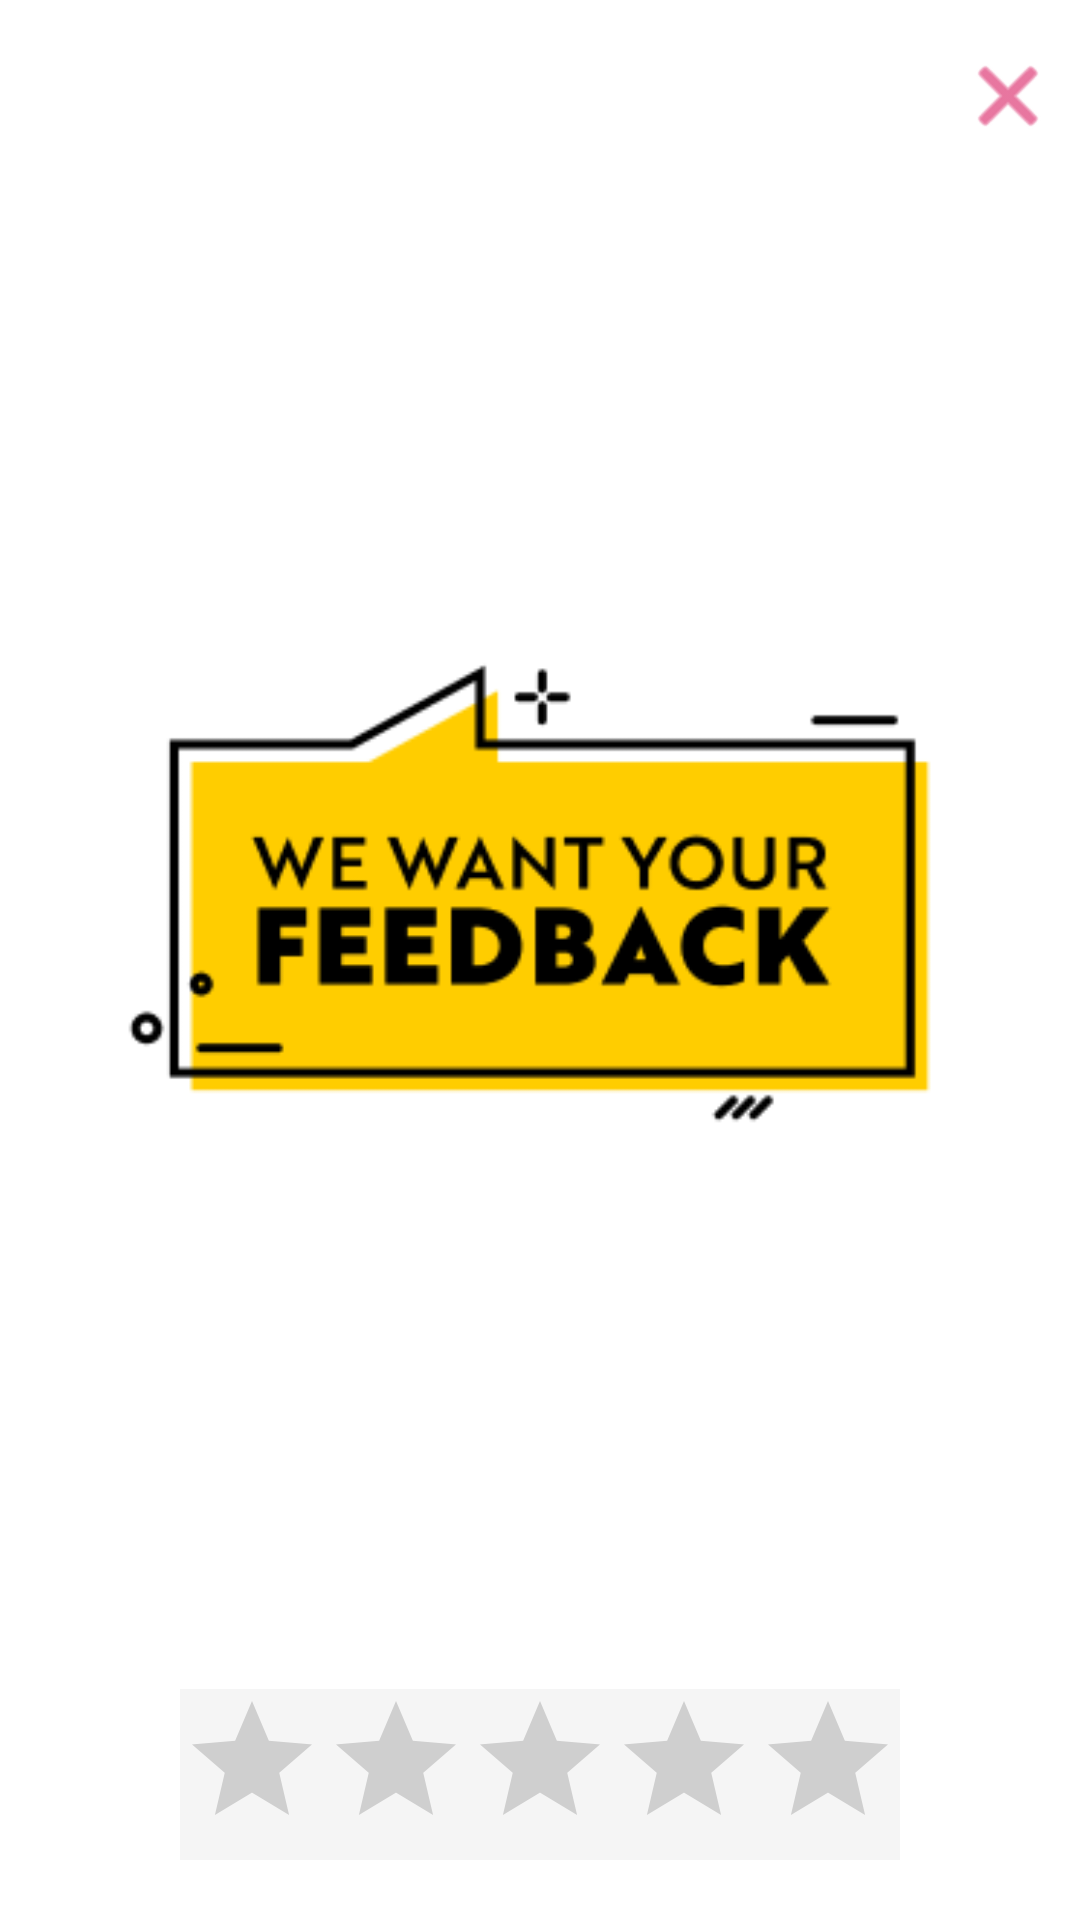

Screen size 1080px×1920px. Icon name, then its center in pixels as (x=x, y=y):
close clear cancel: (x=1008, y=96)
